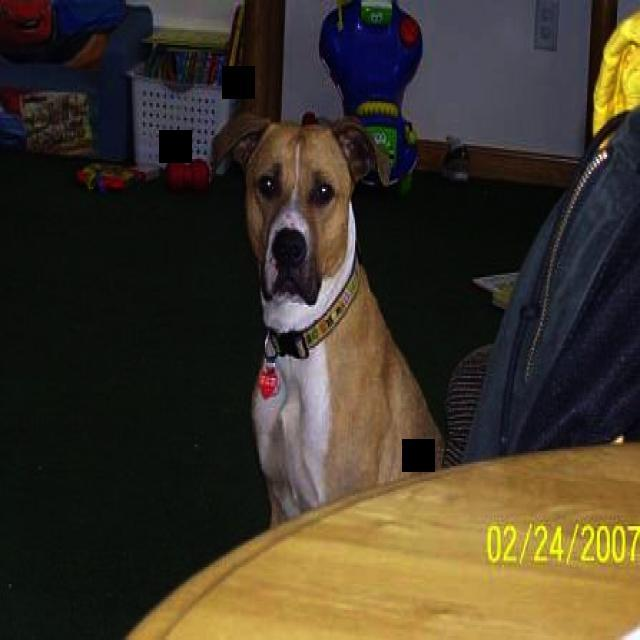adult_dog: (209, 106, 446, 527)
